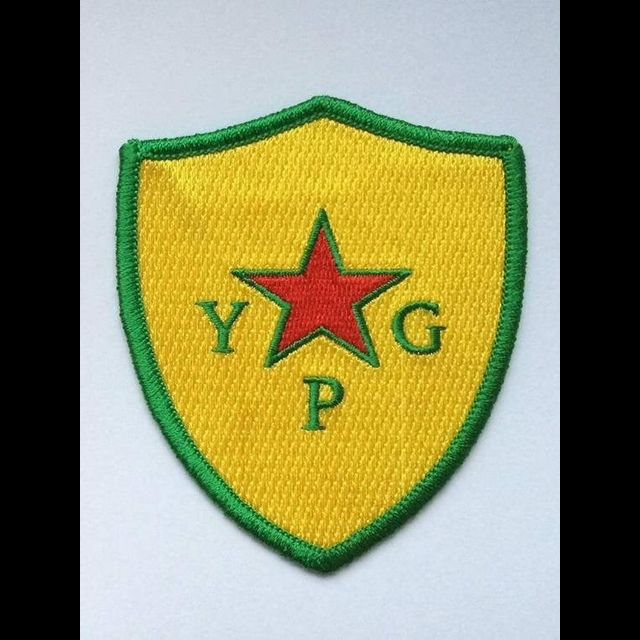YPG: (187, 201, 453, 442)
